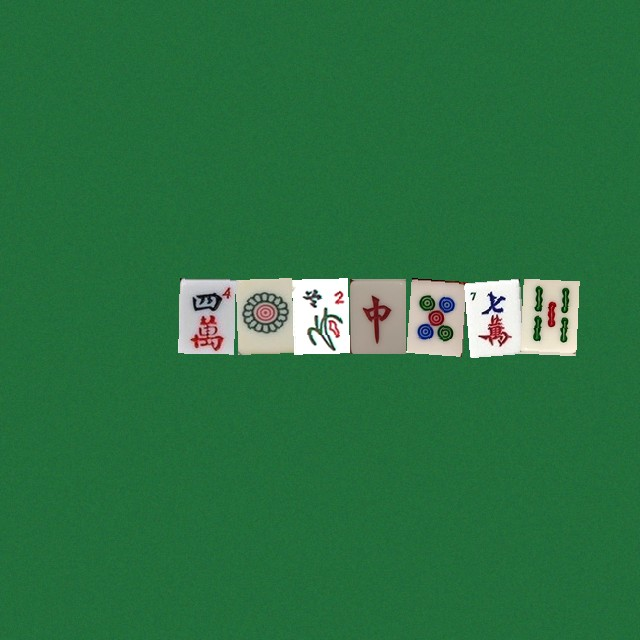tile: (178, 278, 234, 353), (235, 278, 291, 353), (292, 278, 348, 353), (349, 278, 405, 353), (406, 278, 462, 353), (463, 278, 519, 353), (520, 278, 576, 353)
